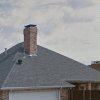Chimney: (16, 15, 45, 58)
